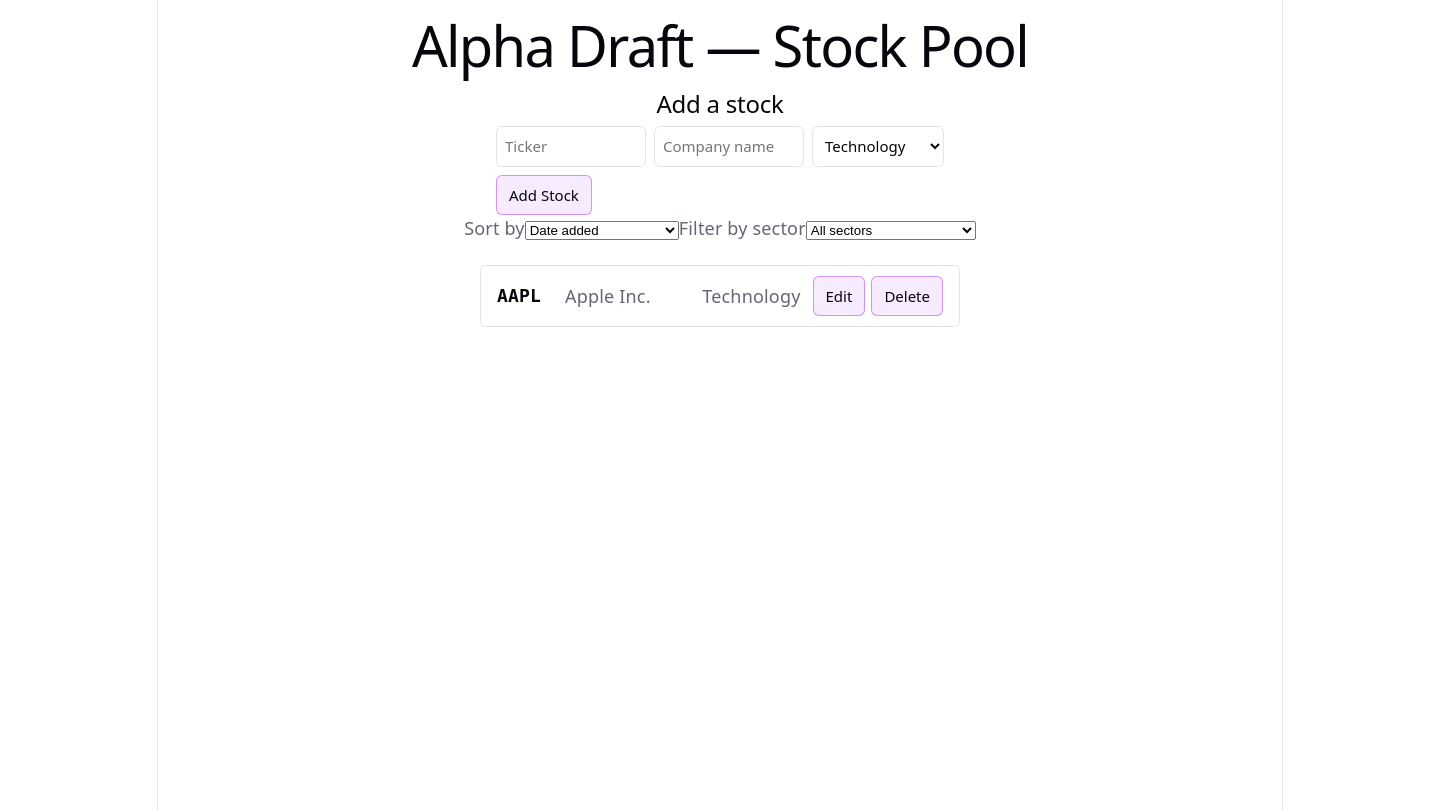
Test: shows an error when the create request fails
This screenshot has width=1440, height=810.
expect the text "AAPL" is shown: met, box left=497, top=283, right=541, bottom=309
In the field labelled "Ticker": (571, 146) left=496, top=126, right=646, bottom=166, type "BAD"
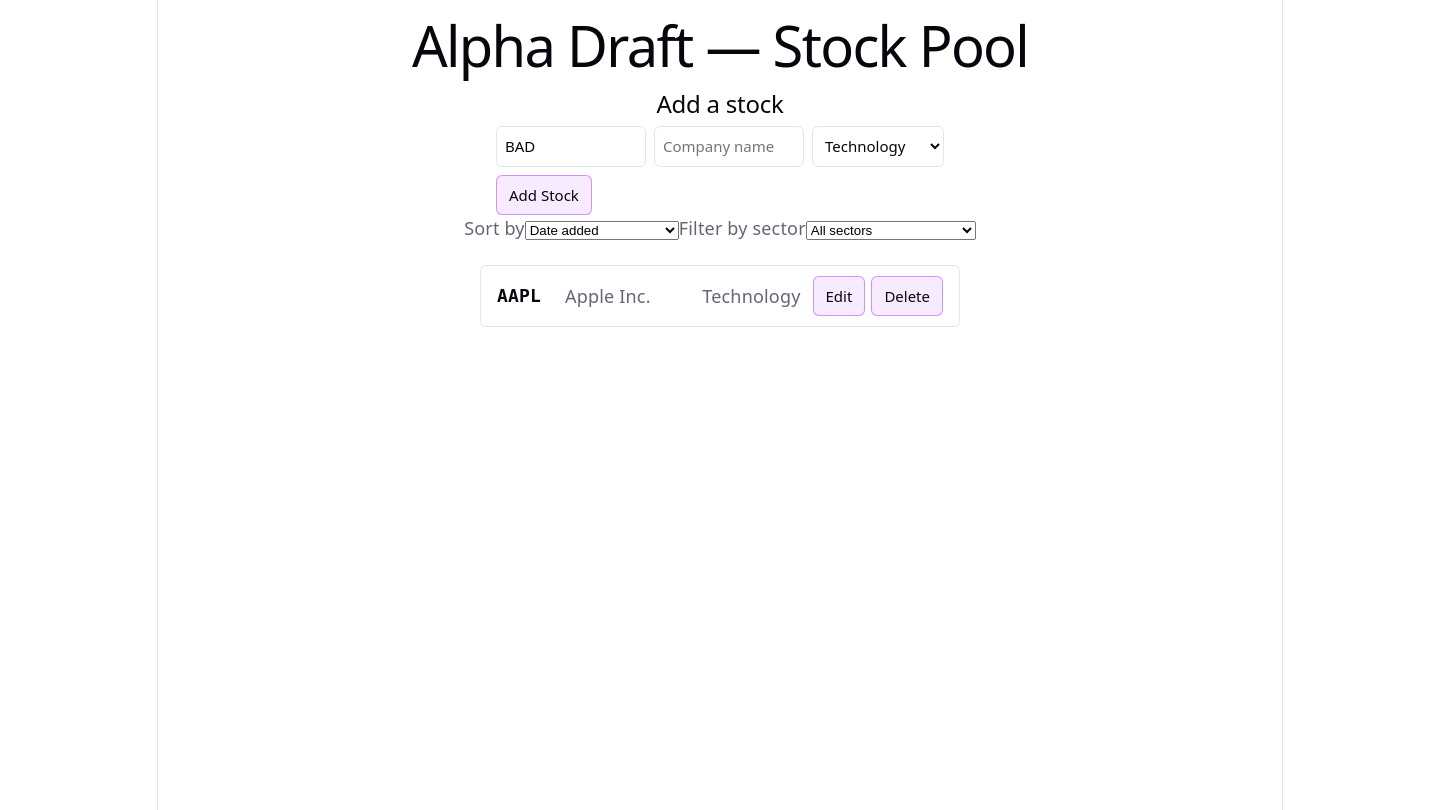
In the field labelled "Company name": (729, 146) left=654, top=126, right=804, bottom=166, type "Bad Co"
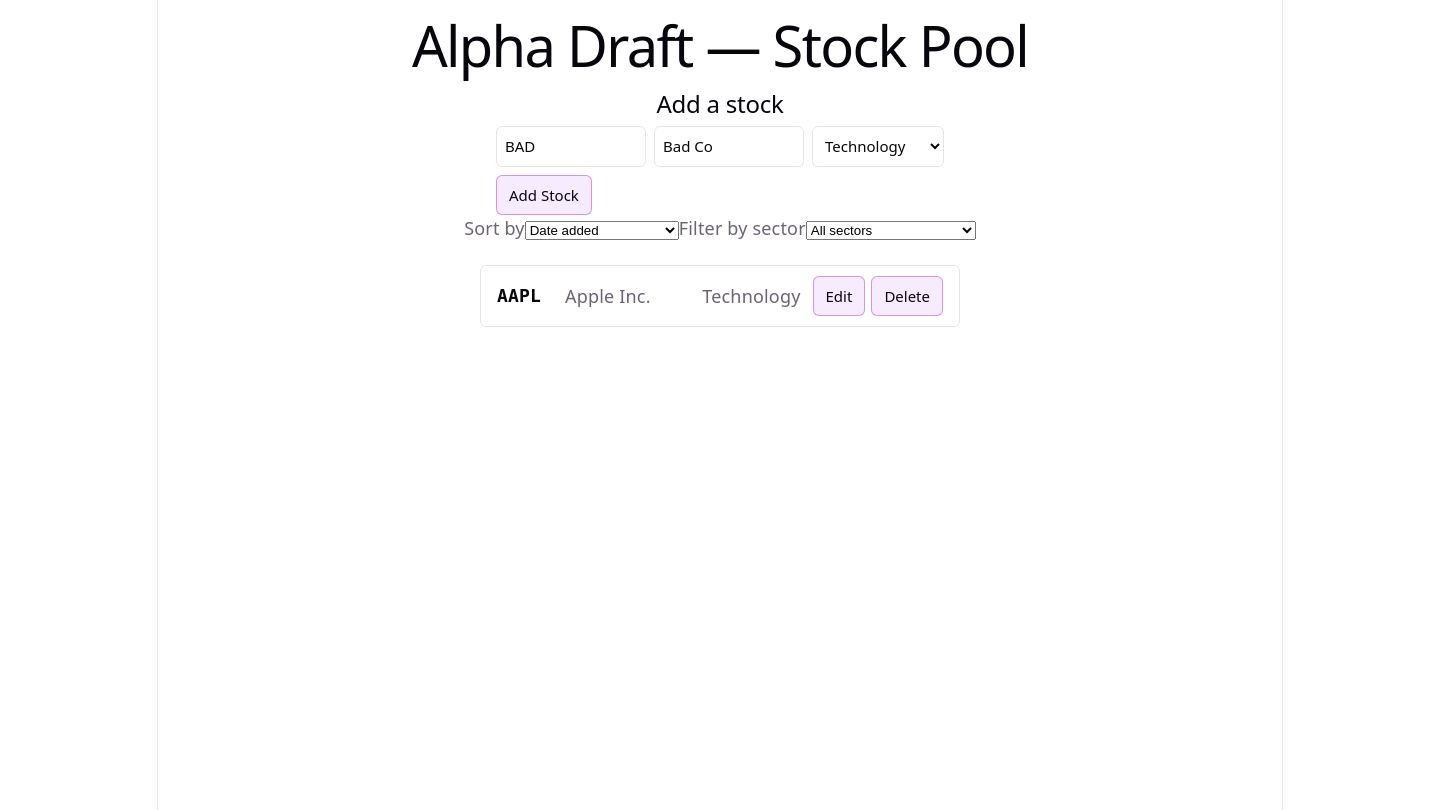
Click the button "Add Stock": (544, 195) left=496, top=174, right=592, bottom=215
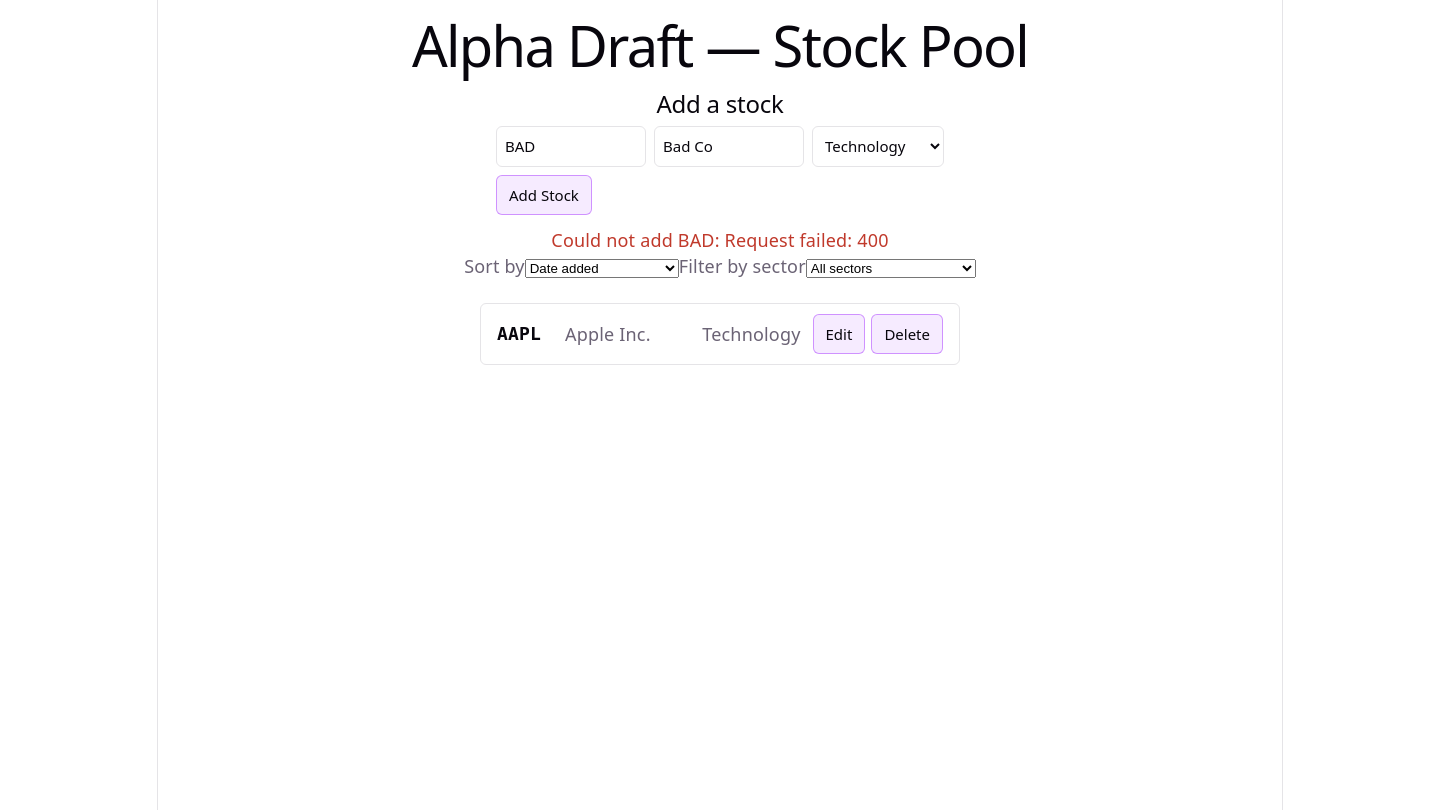
expect the text "Could not add BAD: Request failed: 400" is shown: met, box left=551, top=228, right=889, bottom=252
